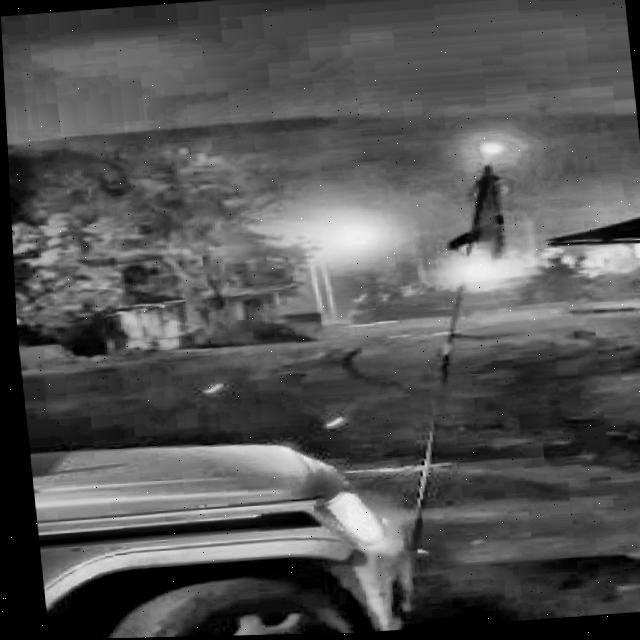light_vehicle: (13, 307, 373, 640)
